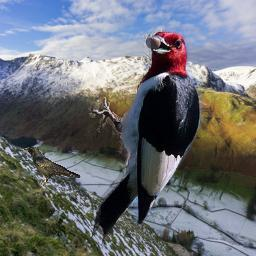Crow: (21, 146, 81, 186)
Woodpecker: (83, 17, 203, 252)
